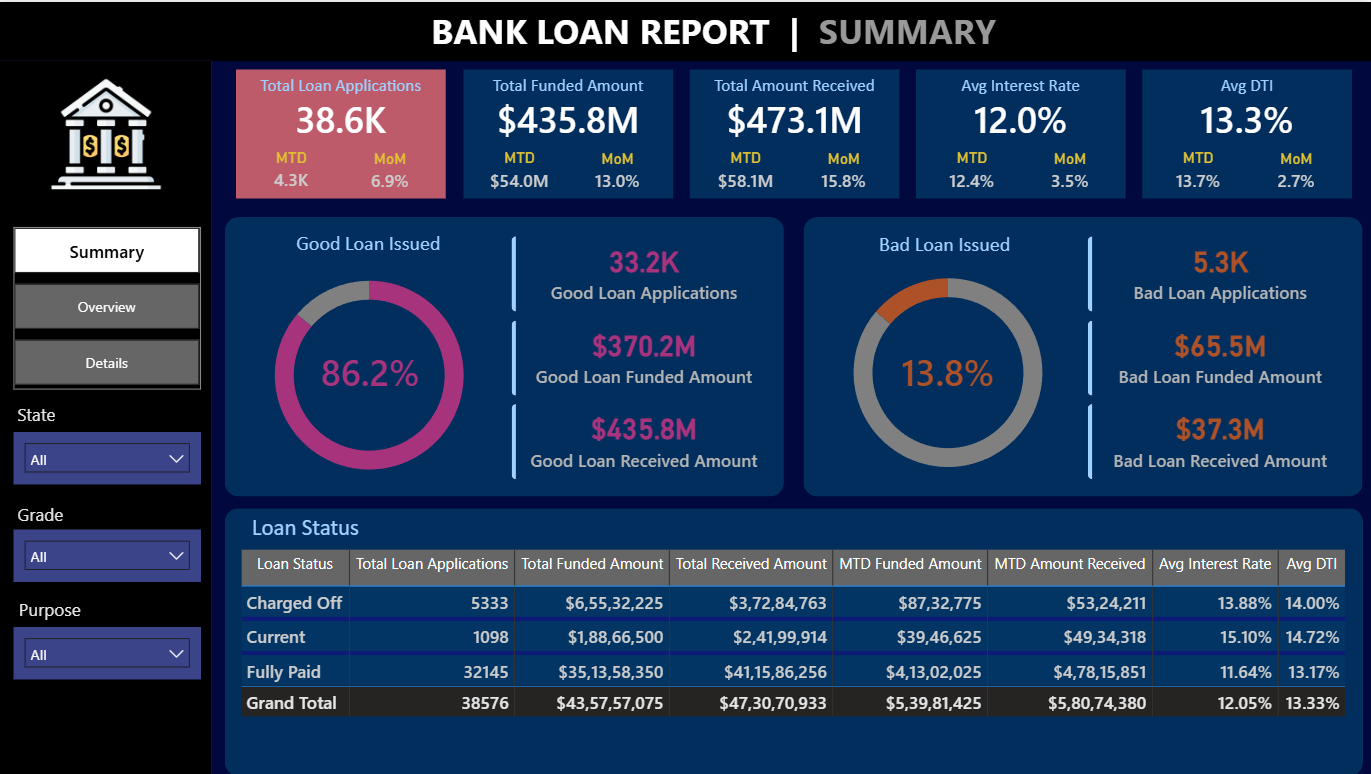

Layout of this report page (visuals, bound fields, positions):
{"tool":"powerbi","page":{"name":"Summary","canvas":[1280,720],"ordinal":0},"visuals":[{"type":"shape","box":[0,0,1279.8,55],"z":0},{"type":"shape","box":[750.9,200,520.2,260.1],"z":1000},{"type":"shape","box":[223.1,63.2,195.1,120.2],"z":2000,"group":"g1"},{"type":"shape","box":[434.7,63.2,195.1,120.2],"z":2000,"group":"g2"},{"type":"shape","box":[645.1,63.2,195.1,120.2],"z":2000,"group":"g3"},{"type":"shape","box":[855.5,63.2,195.1,120.2],"z":2000,"group":"g4"},{"type":"shape","box":[1065.8,63.2,195.1,120.2],"z":2000,"group":"g5"},{"type":"shape","box":[212.3,200,520.2,260.1],"z":2000},{"type":"shape","box":[0,54.8,200.5,665],"z":3000},{"type":"textbox","box":[400,0,537.4,58.9],"z":4000},{"type":"card","fields":{"Values":["bank_loan.Total Loan Applications"]},"box":[246.4,89,148.5,42.9],"z":4000,"group":"g1"},{"type":"card","fields":{"Values":["bank_loan.Total Funded Amount"]},"box":[458,89,148.5,42.9],"z":4000,"group":"g2"},{"type":"card","fields":{"Values":["bank_loan.Total Amount Received"]},"box":[668.4,89,148.5,42.9],"z":4000,"group":"g3"},{"type":"card","fields":{"Values":["bank_loan.Avg Interest Rate"]},"box":[878.8,89,148.5,42.9],"z":4000,"group":"g4"},{"type":"card","fields":{"Values":["bank_loan.Avg DTI"]},"box":[1089.1,89,148.5,42.9],"z":4000,"group":"g5"},{"type":"group","id":"g1","title":"Group 1","box":[223.1,63.2,195.8,121.5],"z":5000},{"type":"textbox","box":[223.1,63.2,195.1,34.4],"z":5000,"group":"g1"},{"type":"textbox","box":[434.7,63.2,195.1,34.4],"z":5000,"group":"g2"},{"type":"textbox","box":[645.1,63.2,195.1,34.4],"z":5000,"group":"g3"},{"type":"textbox","box":[855.5,63.2,195.1,34.4],"z":5000,"group":"g4"},{"type":"textbox","box":[1065.8,63.2,195.1,34.4],"z":5000,"group":"g5"},{"type":"group","id":"g2","title":"Group 1","box":[434.7,63.2,194.6,121.5],"z":6000},{"type":"card","title":"MTD","fields":{"Values":["bank_loan.MTD Funded Amount"]},"box":[452,136.6,69.4,47.1],"z":6000,"group":"g2"},{"type":"card","title":"MTD","fields":{"Values":["bank_loan.MTD Amount Received"]},"box":[662.4,136.6,69.4,47.1],"z":6000,"group":"g3"},{"type":"card","title":"MTD","fields":{"Values":["bank_loan.MTD Avg Interest Rate"]},"box":[872.8,136.6,69.4,47.1],"z":6000,"group":"g4"},{"type":"card","title":"MTD","fields":{"Values":["bank_loan.MTD Avg DTI"]},"box":[1083.1,136.6,69.4,47.1],"z":6000,"group":"g5"},{"type":"card","title":"MTD","fields":{"Values":["bank_loan.MTD Loan Applications"]},"box":[246.4,136.8,56.4,46.6],"z":6000,"group":"g1"},{"type":"card","title":"MoM","fields":{"Values":["bank_loan.MoM Loan Applications"]},"box":[338.4,138,56.4,45.4],"z":7000,"group":"g1"},{"type":"card","title":"MoM","fields":{"Values":["bank_loan.MoM Funded Amount"]},"box":[550,138,56.4,45.4],"z":7000,"group":"g2"},{"type":"card","title":"MoM","fields":{"Values":["bank_loan.MoM Amount Received"]},"box":[760.4,138,56.4,45.4],"z":7000,"group":"g3"},{"type":"card","title":"MoM","fields":{"Values":["bank_loan.MoM Avg Interest Rate"]},"box":[970.8,138,56.4,45.4],"z":7000,"group":"g4"},{"type":"card","title":"MoM","fields":{"Values":["bank_loan.MoM Avg DTI"]},"box":[1181.1,138,56.4,45.4],"z":7000,"group":"g5"},{"type":"textbox","box":[250.6,208.4,194.8,44.7],"z":7000},{"type":"card","fields":{"Values":["bank_loan.Good Loan %"]},"box":[274.2,323.8,147.6,43.4],"z":8000},{"type":"group","id":"g3","title":"Group 1","box":[645.1,63.2,194.6,120.2],"z":9000},{"type":"group","id":"g4","title":"Group 1","box":[855.5,63.2,194.6,120.2],"z":10000},{"type":"group","id":"g5","title":"Group 1","box":[1065.8,63.2,194.6,120.2],"z":11000},{"type":"shape","box":[212.3,471.2,1058.9,249.1],"z":12000},{"type":"donutChart","fields":{"Category":["bank_loan.Good vs Bad Loan"],"Y":["bank_loan.Total Loan Applications"]},"box":[222.1,232,250.6,229.5],"z":13000},{"type":"cardVisual","fields":{"Data":["bank_loan.Good Loan Applications","bank_loan.Good Loan Funded Amount","bank_loan.Good Loan Amount Received"]},"box":[462.7,201,280.4,260.5],"z":14000},{"type":"donutChart","fields":{"Category":["bank_loan.Good vs Bad Loan"],"Y":["bank_loan.Total Loan Applications"]},"box":[760.5,230.7,250.6,229.5],"z":15000},{"type":"textbox","box":[787.8,209.7,194.8,44.7],"z":16000},{"type":"card","fields":{"Values":["bank_loan.Bad Loan %"]},"box":[811.3,323.8,147.6,43.4],"z":17000},{"type":"cardVisual","fields":{"Data":["bank_loan.Bad Loan Applications","bank_loan.Bad Loan Funded Amount","bank_loan.Bad Loan Amount Received"]},"box":[998.6,201,280.4,260.5],"z":18000},{"type":"textbox","box":[190.5,470.8,194.3,44.8],"z":19000},{"type":"tableEx","fields":{"Values":["bank_loan.loan_status","bank_loan.Total Loan Applications","bank_loan.Total Funded Amount","bank_loan.Total Amount Received","bank_loan.MTD Funded Amount","bank_loan.MTD Amount Received","bank_loan.Avg Interest Rate","bank_loan.Avg DTI"]},"box":[221.7,504.4,1039.9,165.6],"z":20000},{"type":"slicer","fields":{"Values":["bank_loan.address_state"]},"box":[16.2,399.8,174.4,48.6],"z":21000},{"type":"textbox","box":[14.9,367.4,61,44.8],"z":22000},{"type":"slicer","fields":{"Values":["bank_loan.grade"]},"box":[16.2,490.7,174.4,48.6],"z":23000},{"type":"textbox","box":[14.9,460.8,61,44.8],"z":24000},{"type":"slicer","fields":{"Values":["bank_loan.purpose"]},"box":[16.4,581.3,174.4,48.6],"z":25000},{"type":"textbox","box":[16.4,549,76,49.8],"z":26000},{"type":"image","box":[24.9,68.6,155.8,108.5],"z":26001},{"type":"pageNavigator","box":[16.2,209.4,174.5,150.8],"z":26002}]}

Visuals, with their boxes in screenshot pixels (x1, y1, x2, y2), scaled from the page's 1280x720 canvas onto the 1371x774 screenshot:
shape: pyautogui.locateOnScreen(0, 0, 1370, 59)
shape: pyautogui.locateOnScreen(804, 215, 1361, 495)
shape: pyautogui.locateOnScreen(239, 68, 448, 197)
shape: pyautogui.locateOnScreen(466, 68, 675, 197)
shape: pyautogui.locateOnScreen(691, 68, 900, 197)
shape: pyautogui.locateOnScreen(916, 68, 1125, 197)
shape: pyautogui.locateOnScreen(1142, 68, 1351, 197)
shape: pyautogui.locateOnScreen(227, 215, 785, 495)
shape: pyautogui.locateOnScreen(0, 59, 215, 773)
textbox: pyautogui.locateOnScreen(428, 0, 1004, 63)
card - bank_loan.Total Loan Applications: pyautogui.locateOnScreen(264, 96, 423, 142)
card - bank_loan.Total Funded Amount: pyautogui.locateOnScreen(491, 96, 650, 142)
card - bank_loan.Total Amount Received: pyautogui.locateOnScreen(716, 96, 875, 142)
card - bank_loan.Avg Interest Rate: pyautogui.locateOnScreen(941, 96, 1100, 142)
card - bank_loan.Avg DTI: pyautogui.locateOnScreen(1167, 96, 1326, 142)
"Group 1" group: pyautogui.locateOnScreen(239, 68, 449, 199)
textbox: pyautogui.locateOnScreen(239, 68, 448, 105)
textbox: pyautogui.locateOnScreen(466, 68, 675, 105)
textbox: pyautogui.locateOnScreen(691, 68, 900, 105)
textbox: pyautogui.locateOnScreen(916, 68, 1125, 105)
textbox: pyautogui.locateOnScreen(1142, 68, 1351, 105)
"Group 1" group: pyautogui.locateOnScreen(466, 68, 674, 199)
"MTD" card: pyautogui.locateOnScreen(484, 147, 558, 197)
"MTD" card: pyautogui.locateOnScreen(709, 147, 784, 197)
"MTD" card: pyautogui.locateOnScreen(935, 147, 1009, 197)
"MTD" card: pyautogui.locateOnScreen(1160, 147, 1234, 197)
"MTD" card: pyautogui.locateOnScreen(264, 147, 324, 197)
"MoM" card: pyautogui.locateOnScreen(362, 148, 423, 197)
"MoM" card: pyautogui.locateOnScreen(589, 148, 650, 197)
"MoM" card: pyautogui.locateOnScreen(814, 148, 875, 197)
"MoM" card: pyautogui.locateOnScreen(1040, 148, 1100, 197)
"MoM" card: pyautogui.locateOnScreen(1265, 148, 1325, 197)
textbox: pyautogui.locateOnScreen(268, 224, 477, 272)
card - bank_loan.Good Loan %: pyautogui.locateOnScreen(294, 348, 452, 395)
"Group 1" group: pyautogui.locateOnScreen(691, 68, 899, 197)
"Group 1" group: pyautogui.locateOnScreen(916, 68, 1125, 197)
"Group 1" group: pyautogui.locateOnScreen(1142, 68, 1350, 197)
shape: pyautogui.locateOnScreen(227, 507, 1362, 773)
donutChart - bank_loan.Good vs Bad Loan x bank_loan.Total Loan Applications: pyautogui.locateOnScreen(238, 249, 506, 496)
cardVisual - bank_loan.Good Loan Applications x bank_loan.Good Loan Funded Amount: pyautogui.locateOnScreen(496, 216, 796, 496)
donutChart - bank_loan.Good vs Bad Loan x bank_loan.Total Loan Applications: pyautogui.locateOnScreen(815, 248, 1083, 495)
textbox: pyautogui.locateOnScreen(844, 225, 1052, 273)
card - bank_loan.Bad Loan %: pyautogui.locateOnScreen(869, 348, 1027, 395)
cardVisual - bank_loan.Bad Loan Applications x bank_loan.Bad Loan Funded Amount: pyautogui.locateOnScreen(1070, 216, 1370, 496)
textbox: pyautogui.locateOnScreen(204, 506, 412, 554)
tableEx - bank_loan.loan_status x bank_loan.Total Loan Applications: pyautogui.locateOnScreen(237, 542, 1351, 720)
slicer - bank_loan.address_state: pyautogui.locateOnScreen(17, 430, 204, 482)
textbox: pyautogui.locateOnScreen(16, 395, 81, 443)
slicer - bank_loan.grade: pyautogui.locateOnScreen(17, 528, 204, 580)
textbox: pyautogui.locateOnScreen(16, 495, 81, 544)
slicer - bank_loan.purpose: pyautogui.locateOnScreen(18, 625, 204, 677)
textbox: pyautogui.locateOnScreen(18, 590, 99, 644)
image: pyautogui.locateOnScreen(27, 74, 194, 190)
pageNavigator: pyautogui.locateOnScreen(17, 225, 204, 387)
